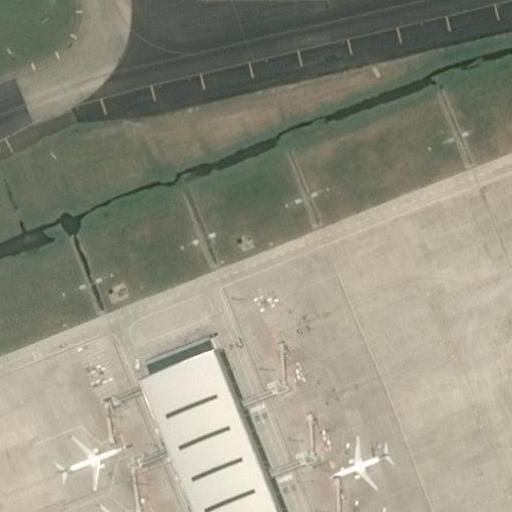Aircraft: (52, 432, 125, 490), (49, 431, 127, 482), (329, 434, 394, 490), (326, 434, 392, 489), (77, 501, 163, 512), (82, 501, 152, 512), (355, 506, 421, 512), (352, 508, 428, 512)
